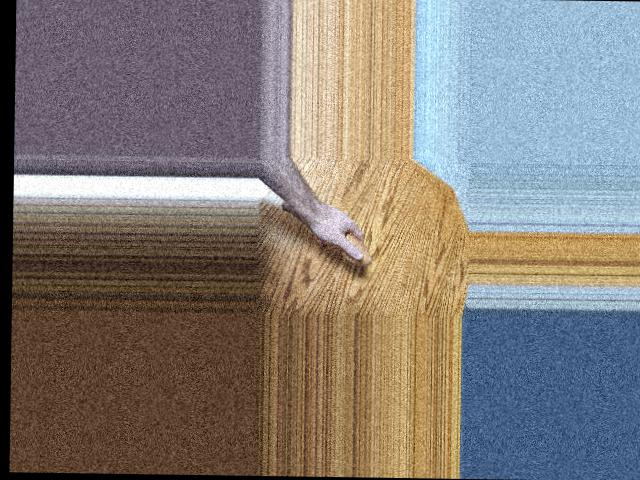sweet_potato: (282, 202, 374, 266)
